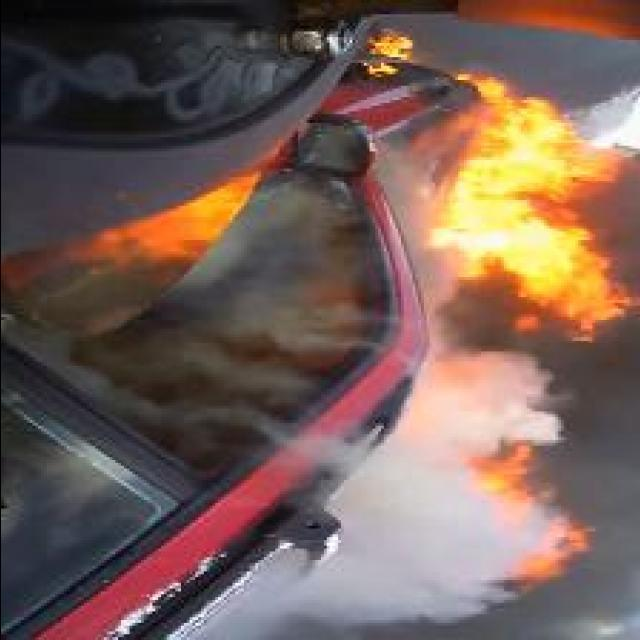Fire: (426, 71, 640, 337), (49, 173, 257, 276), (363, 29, 411, 82)
